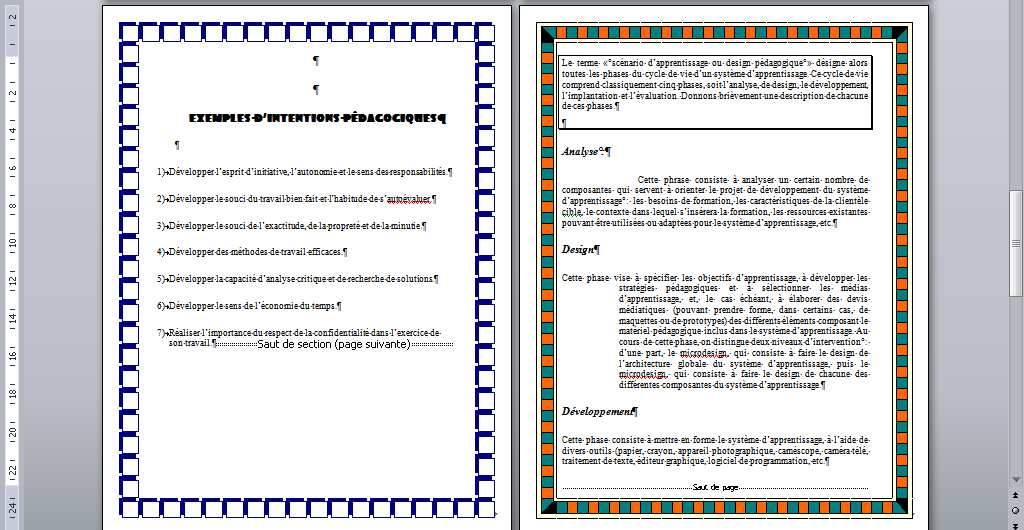texte: (346, 103, 446, 131), (562, 457, 829, 466), (257, 103, 339, 131), (802, 70, 871, 98), (185, 103, 251, 131), (254, 168, 452, 177), (157, 248, 347, 257), (681, 92, 868, 101), (208, 329, 393, 338), (595, 218, 761, 228), (157, 302, 341, 311), (602, 70, 656, 98), (661, 381, 825, 390), (801, 316, 851, 344), (769, 370, 818, 398), (335, 183, 383, 211), (388, 183, 436, 211), (169, 328, 217, 356), (673, 306, 721, 334), (654, 316, 699, 344), (743, 317, 868, 327), (615, 370, 659, 398), (260, 183, 303, 211), (309, 237, 352, 265), (157, 275, 290, 284), (615, 306, 657, 334), (736, 274, 853, 284), (558, 70, 598, 98), (315, 329, 439, 338), (619, 306, 743, 315), (729, 327, 852, 336), (712, 447, 821, 456), (761, 70, 796, 98), (615, 316, 650, 344), (225, 264, 258, 292), (643, 338, 740, 347), (646, 58, 677, 86), (265, 222, 360, 231), (336, 275, 438, 283), (176, 222, 261, 231), (562, 407, 638, 417), (730, 70, 757, 98), (262, 302, 335, 311), (679, 70, 702, 98), (704, 316, 727, 344), (562, 92, 633, 101), (309, 183, 331, 211), (266, 318, 287, 346), (814, 447, 834, 475), (762, 436, 824, 445), (158, 168, 218, 177), (648, 59, 708, 68), (562, 197, 622, 206), (619, 295, 679, 304), (768, 360, 828, 369), (294, 318, 313, 346), (157, 195, 214, 204), (755, 59, 812, 68), (562, 102, 619, 111), (561, 147, 611, 157), (366, 339, 410, 350), (787, 209, 867, 215), (309, 211, 326, 239), (658, 70, 675, 98), (750, 198, 809, 206), (666, 284, 717, 293), (680, 349, 729, 358), (619, 370, 668, 379), (809, 274, 852, 284), (158, 329, 205, 338), (804, 338, 864, 345), (755, 71, 807, 79), (764, 220, 816, 228), (774, 186, 819, 195), (244, 291, 258, 319), (562, 245, 600, 255), (248, 211, 261, 239), (859, 306, 872, 334), (619, 360, 670, 367), (824, 447, 868, 455), (702, 70, 752, 77), (562, 188, 611, 195), (562, 447, 611, 454), (761, 175, 773, 203), (729, 306, 741, 334), (762, 284, 809, 291), (730, 208, 770, 216), (825, 197, 868, 204), (335, 339, 362, 350), (644, 274, 677, 283), (698, 274, 731, 283), (328, 222, 360, 231), (636, 92, 677, 99), (619, 285, 654, 293), (678, 447, 709, 456), (653, 208, 683, 217), (830, 70, 868, 77), (693, 197, 731, 204), (298, 340, 331, 348), (222, 168, 251, 177), (615, 447, 644, 456), (678, 360, 706, 369), (837, 187, 868, 195), (740, 295, 771, 303), (713, 338, 740, 347), (296, 276, 326, 284), (612, 437, 651, 443), (596, 208, 629, 215), (726, 59, 751, 68), (816, 59, 841, 68), (603, 70, 628, 79), (664, 176, 689, 185), (830, 349, 855, 358), (775, 370, 800, 379), (337, 291, 345, 319), (742, 176, 774, 183), (749, 175, 757, 203), (681, 185, 689, 213), (701, 327, 709, 355), (562, 221, 593, 228), (789, 295, 820, 302), (819, 370, 850, 377), (825, 176, 854, 183), (648, 197, 677, 204), (603, 61, 643, 66), (587, 274, 609, 283), (586, 436, 608, 445), (586, 197, 593, 225), (647, 449, 675, 456), (695, 177, 727, 183), (749, 306, 773, 314), (752, 350, 784, 356), (693, 371, 725, 377), (562, 208, 583, 217), (773, 338, 800, 345), (730, 361, 761, 367), (728, 437, 759, 443), (720, 187, 743, 195), (841, 284, 867, 291), (675, 187, 705, 193), (803, 307, 832, 313), (258, 340, 279, 348), (157, 222, 175, 231), (819, 219, 837, 228), (794, 177, 820, 183), (693, 436, 715, 443), (707, 81, 726, 89), (687, 210, 717, 215), (654, 437, 678, 443), (9, 460, 16, 480), (9, 422, 16, 442), (9, 384, 16, 404), (9, 309, 16, 329), (9, 271, 16, 291), (9, 498, 16, 518), (638, 176, 658, 183), (635, 188, 663, 193), (562, 274, 582, 281), (847, 295, 867, 302), (562, 436, 582, 443), (562, 71, 585, 77), (9, 347, 16, 366), (729, 285, 751, 291), (577, 60, 598, 66), (849, 59, 867, 66), (681, 70, 698, 77), (632, 208, 649, 215), (779, 306, 796, 313), (646, 351, 663, 358), (798, 349, 815, 356), (741, 370, 758, 377), (802, 263, 806, 291), (837, 362, 853, 369), (840, 436, 856, 443), (619, 340, 639, 345), (283, 339, 294, 348), (617, 188, 629, 195), (827, 295, 839, 302), (839, 308, 853, 314), (856, 327, 868, 334), (674, 372, 686, 379), (855, 370, 867, 377), (614, 276, 630, 281), (248, 195, 258, 202), (562, 59, 572, 66), (589, 70, 599, 77), (632, 70, 642, 77), (823, 186, 833, 193), (633, 197, 643, 204), (736, 197, 746, 204), (773, 208, 783, 215), (682, 274, 692, 281), (857, 274, 867, 281), (820, 284, 830, 291), (713, 360, 723, 367), (827, 436, 837, 443), (859, 176, 868, 183), (859, 306, 868, 313), (859, 349, 868, 356), (805, 370, 814, 377), (859, 436, 868, 443), (313, 85, 319, 95), (1012, 507, 1019, 515), (721, 297, 732, 302), (313, 56, 319, 65), (712, 61, 722, 66), (779, 178, 789, 183), (709, 186, 716, 193), (720, 208, 727, 215), (706, 295, 713, 302), (668, 349, 675, 356), (819, 349, 826, 356), (861, 360, 868, 367), (763, 370, 770, 377), (718, 436, 725, 443), (681, 438, 690, 443), (661, 319, 669, 324), (175, 141, 179, 150), (562, 119, 566, 128), (689, 297, 696, 302), (619, 349, 624, 356), (731, 369, 735, 377), (813, 197, 817, 204), (733, 178, 737, 183), (789, 351, 793, 356), (778, 299, 782, 302)
